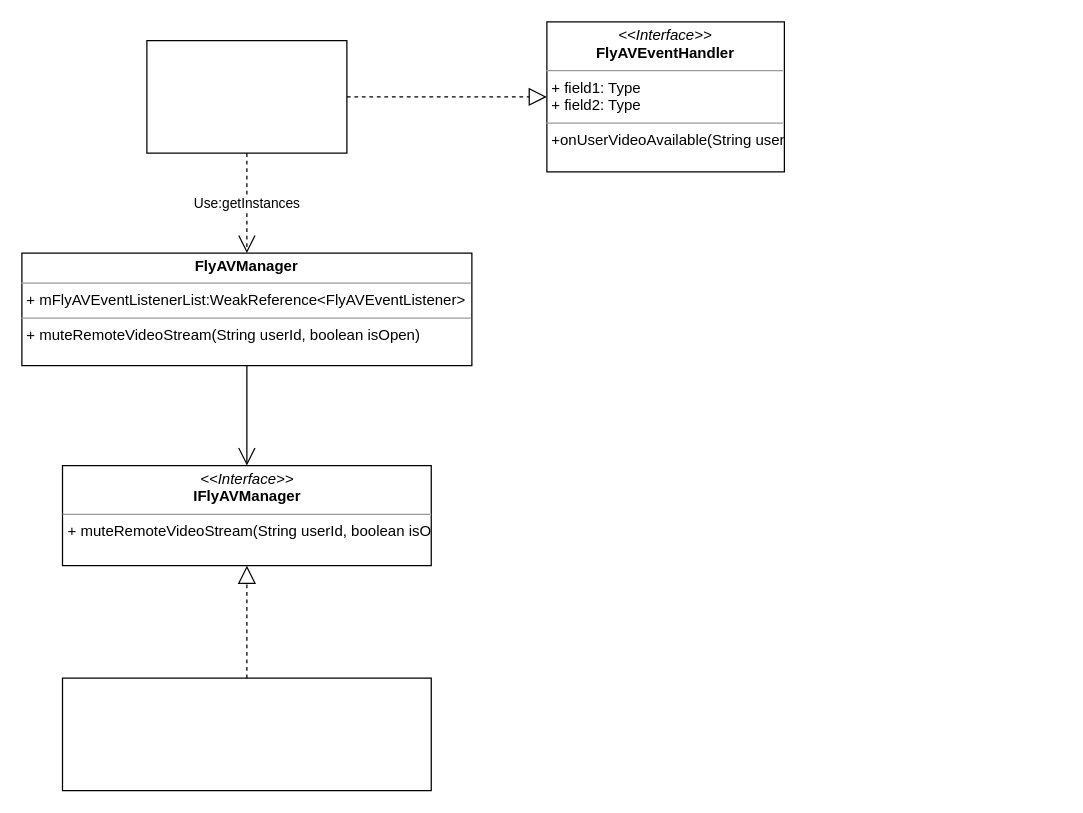
Some shapes in this 1083 by 813 pixel diagram are drawn without their labels. Each missing label, with the centre of its shape:
LiveActivity + field: Type + method(): Type: the point at 246,96
RyManager + field: Type + muteRemoteVideoStream(String userId, boolean isOpen): the point at 246,734
